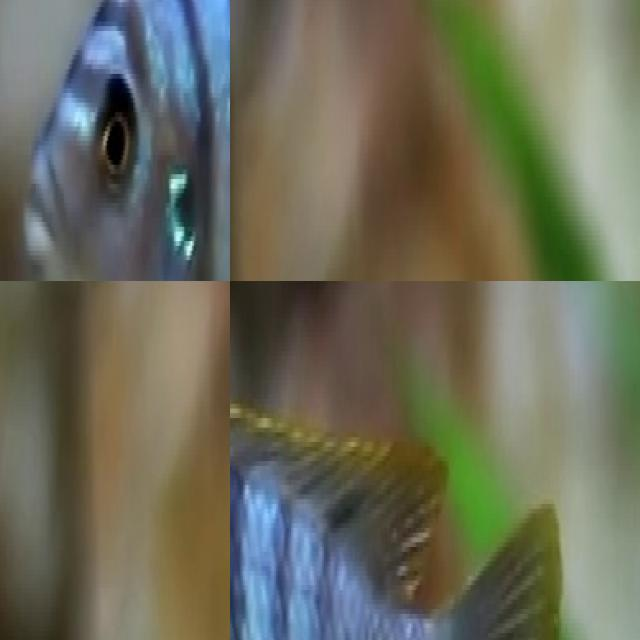fish: (230, 384, 559, 640), (0, 0, 230, 281)
